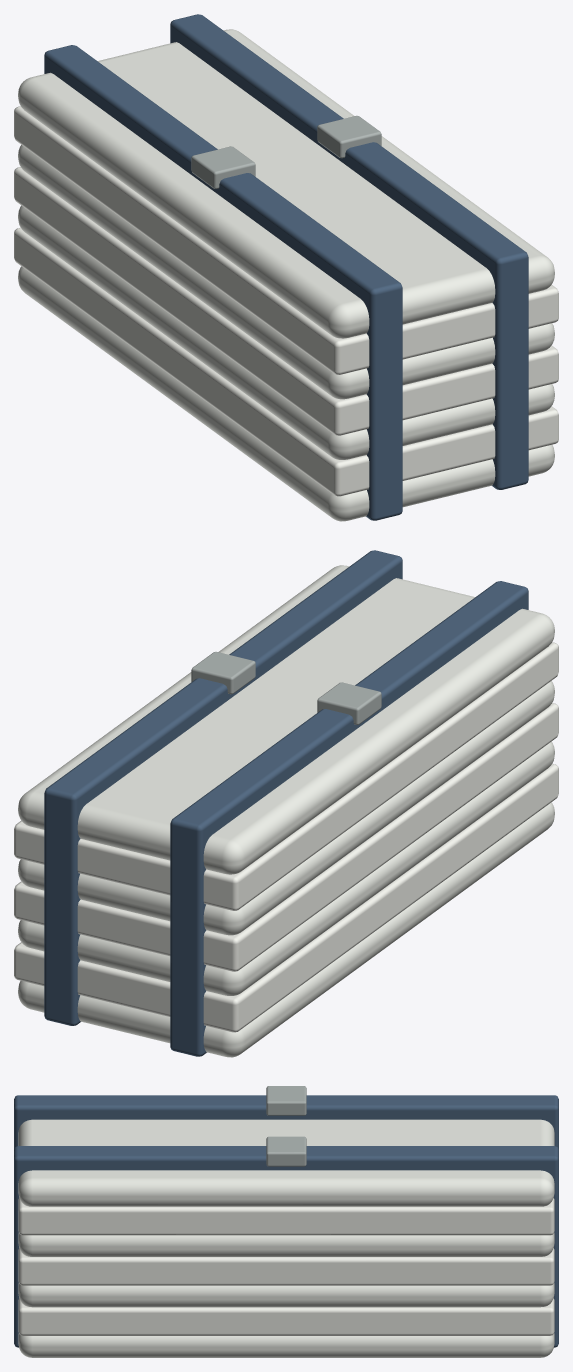
Rendered from spacecraft-parachute-packing-hall-spacecraft-parachute-fe63c015__32086.glb.
3 views of the same model, one above another, from view 1: azimuth 30°, elevation 25°; view 2: azimuth 150°, elevation 25°; view 3: azimuth 270°, elevation 25° (orthographic). The views are drawn at different scales.
Visible parts, largest first — view 1: spacecraft-parachute-packing-hall-textile-riser-bundle; view 2: spacecraft-parachute-packing-hall-textile-riser-bundle; view 3: spacecraft-parachute-packing-hall-textile-riser-bundle.
Part boxes in pixels (left/top/right/bottom): spacecraft-parachute-packing-hall-textile-riser-bundle: left=14, top=14, right=558, bottom=521; spacecraft-parachute-packing-hall-textile-riser-bundle: left=14, top=550, right=558, bottom=1057; spacecraft-parachute-packing-hall-textile-riser-bundle: left=14, top=1086, right=558, bottom=1357.
Bounding box in the file's own units: 0.24 × 0.245 × 0.61.
